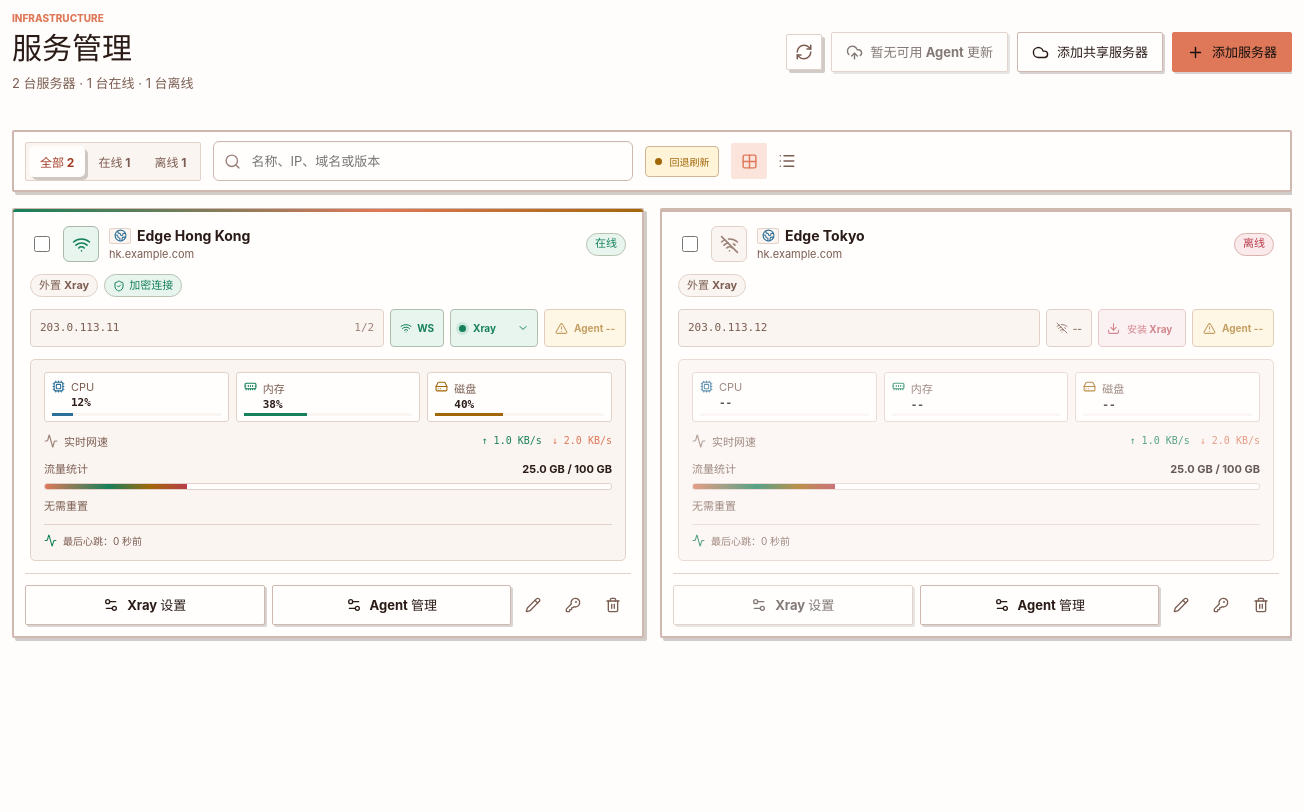
Scenario: service management workbench › filters servers and switches between card and table views
Check: the text "Edge Hong Kong" is shown, box left=137, top=227, right=250, bottom=244
Check: the text "Edge Tokyo" is shown, box left=785, top=227, right=865, bottom=244
Click the button "在线 1". click: [114, 161]
box: left=87, top=146, right=141, bottom=176
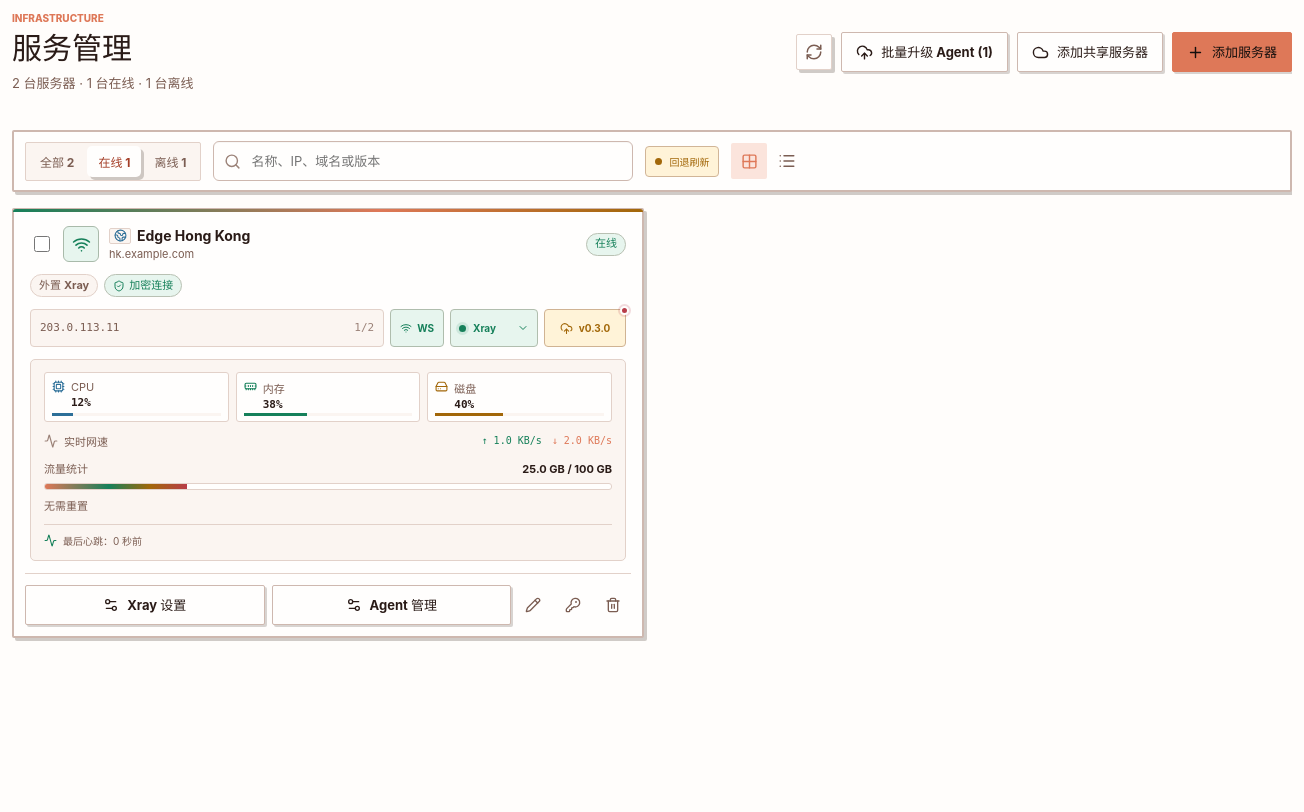
Check: the text "Edge Hong Kong" is shown, box left=137, top=227, right=250, bottom=244
Check: the text "Edge Tokyo" is gone
Click the button named "列表视图". click: [788, 161]
box: left=770, top=143, right=806, bottom=179
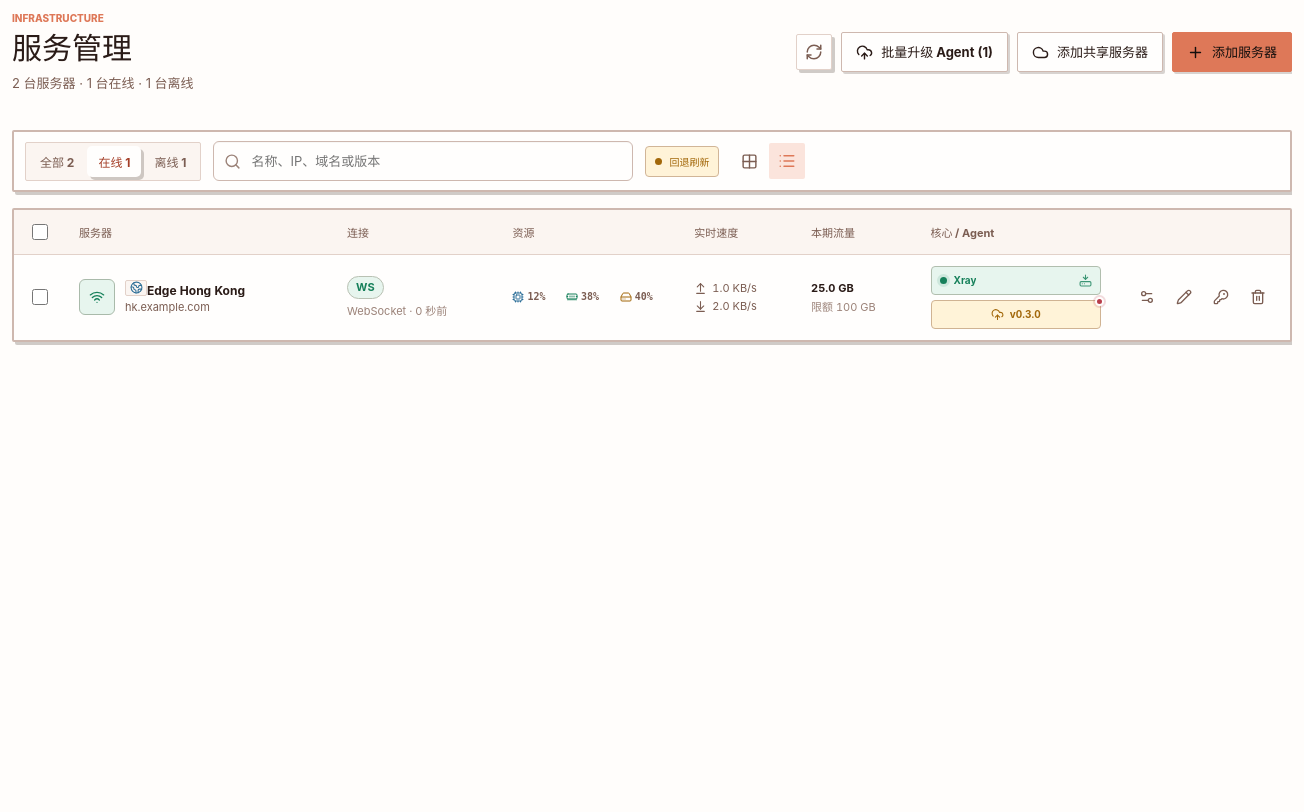
Check: the table is shown, box left=14, top=210, right=1290, bottom=340
